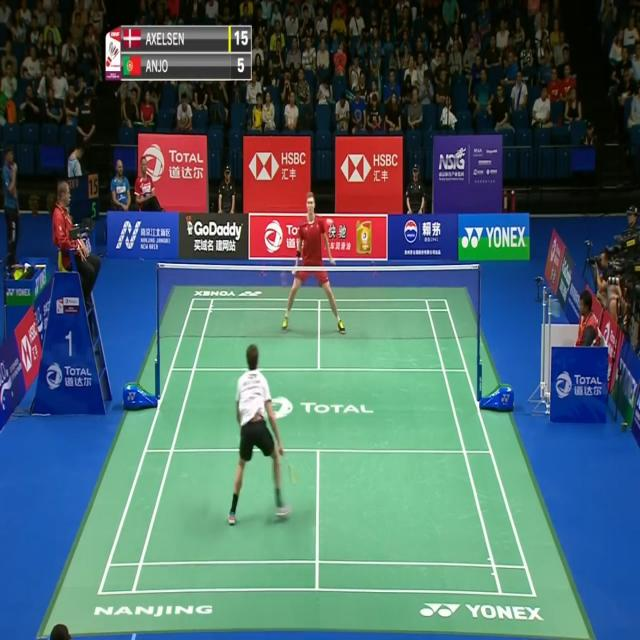Player1: (225, 334, 292, 531)
Player2: (278, 187, 350, 344)
